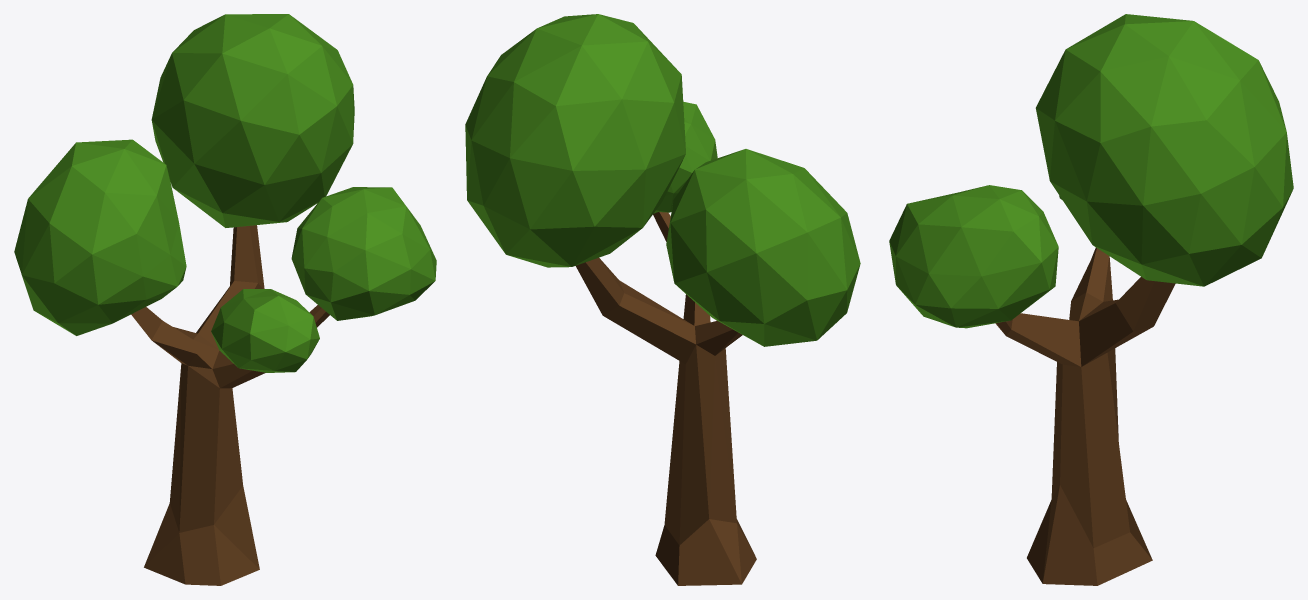
Rendered from TreeV2.FBX.
The picture shows the model from 3 angles, left to right: view 1: azimuth 30°, elevation 25°; view 2: azimuth 150°, elevation 25°; view 3: azimuth 270°, elevation 25°; orthographic projection. The views are drawn at different scales.
Visible parts, largest first — view 1: Line001; view 2: Line001; view 3: Line001.
Part boxes in pixels (box(x1,y1,x2,y2)): Line001: box(14, 14, 436, 585); Line001: box(465, 14, 860, 585); Line001: box(889, 14, 1293, 585).
Size of the model in its own units: 281 by 407 by 255.
